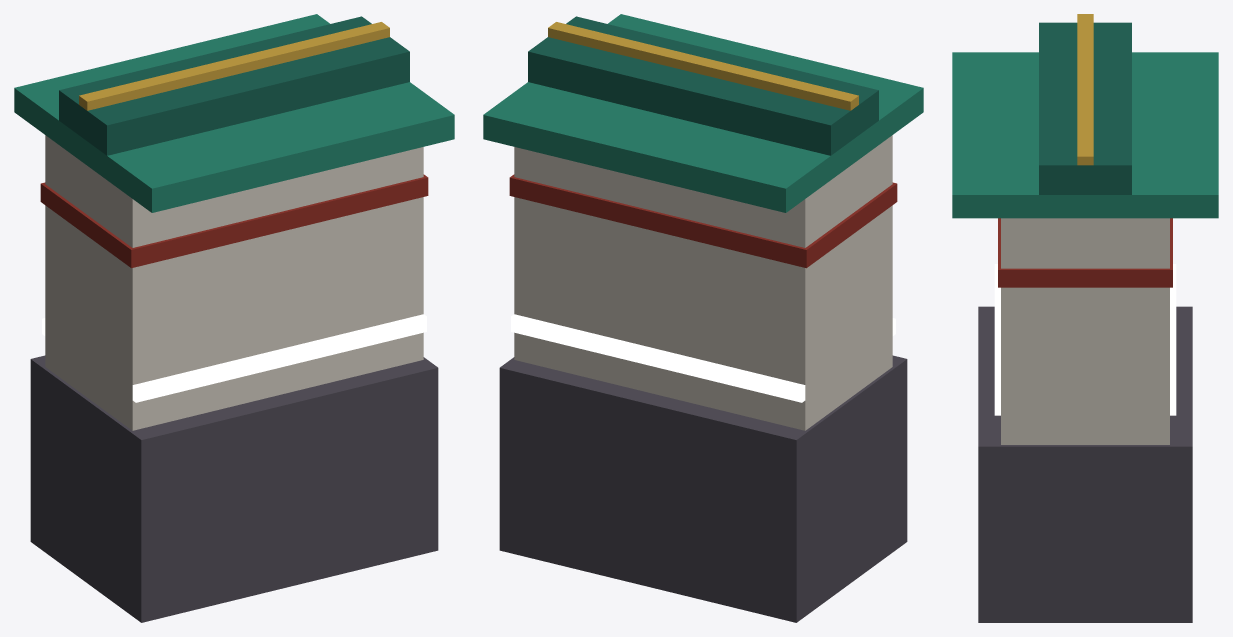
Rendered from wall_t3_seg.glb.
3 renders of one model, left to right at view 1: azimuth 30°, elevation 25°; view 2: azimuth 150°, elevation 25°; view 3: azimuth 270°, elevation 25°, orthographic. The views are drawn at different scales.
Visible parts, largest first — view 1: body, glow; view 2: body, glow; view 3: body, glow.
Part boxes in pixels (<box>): body: <box>14,14,454,622</box>; glow: <box>42,314,426,402</box>; body: <box>483,14,923,622</box>; glow: <box>511,314,895,402</box>; body: <box>952,14,1218,622</box>; glow: <box>994,264,1176,415</box>.
Size of the model in its own units: 1.04 by 1.59 by 0.82.
